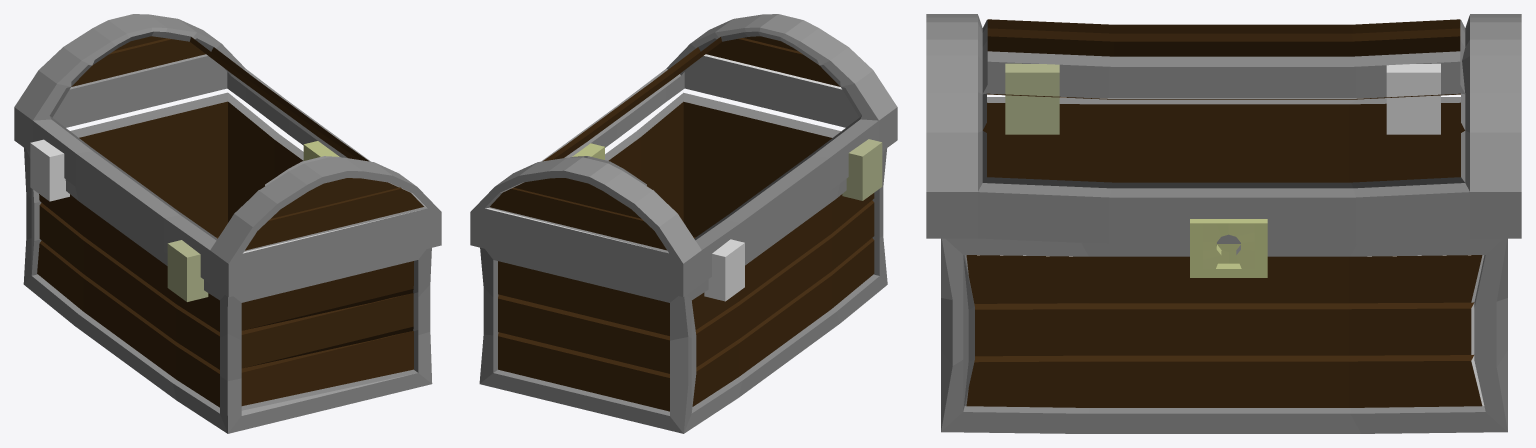
The model's file is chest.glb.
3 views of the same model, side by side, from view 1: azimuth 30°, elevation 25°; view 2: azimuth 150°, elevation 25°; view 3: azimuth 270°, elevation 25° (orthographic). The views are drawn at different scales.
Parts seen in each view (by area): view 1: Chest, Lid, Lock; view 2: Chest, Lid; view 3: Chest, Lid, Lock.
Part boxes in pixels (x1,y1,x2,y2): Chest: [23, 92, 432, 433]; Lid: [14, 14, 441, 297]; Lock: [303, 141, 339, 160]; Chest: [479, 92, 887, 433]; Lid: [470, 14, 897, 296]; Chest: [941, 63, 1507, 433]; Lid: [926, 14, 1521, 243]; Lock: [1190, 219, 1267, 277].
Size of the model in its own units: 2.99 by 2.94 by 4.74.
